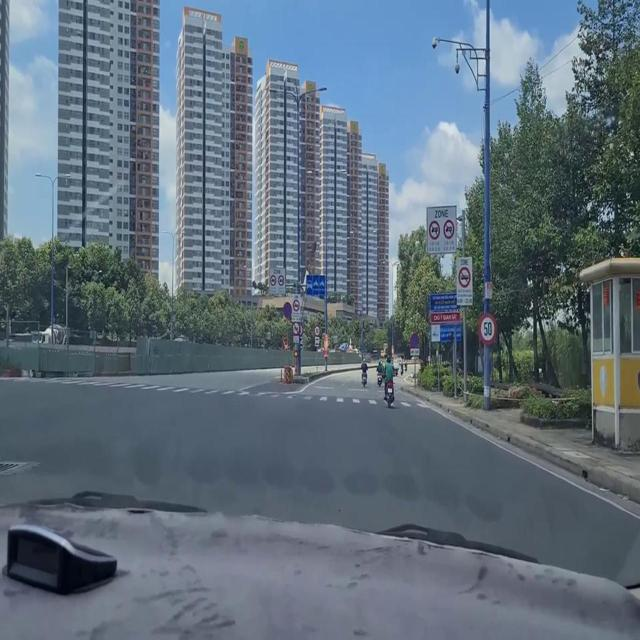Cấm các phương tiện hoạt động trong khung giờ cố định: (422, 203, 460, 255), (455, 247, 472, 306), (267, 265, 286, 295)
Cấm dừng - Cấm đỗ: (404, 329, 420, 351), (281, 299, 292, 322)
Cấm xe máy: (289, 318, 300, 334)
Giới hạn tốc độ: 50Km/h: (476, 310, 500, 352)
Khác: (430, 290, 464, 346)
Làn đường cho từng xe: (302, 271, 328, 297)
